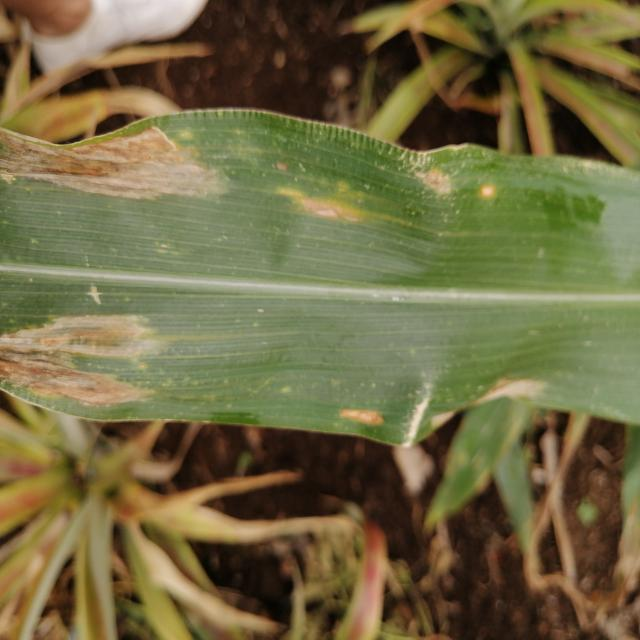Corn_Leaf_Blight: (0, 110, 640, 453)
